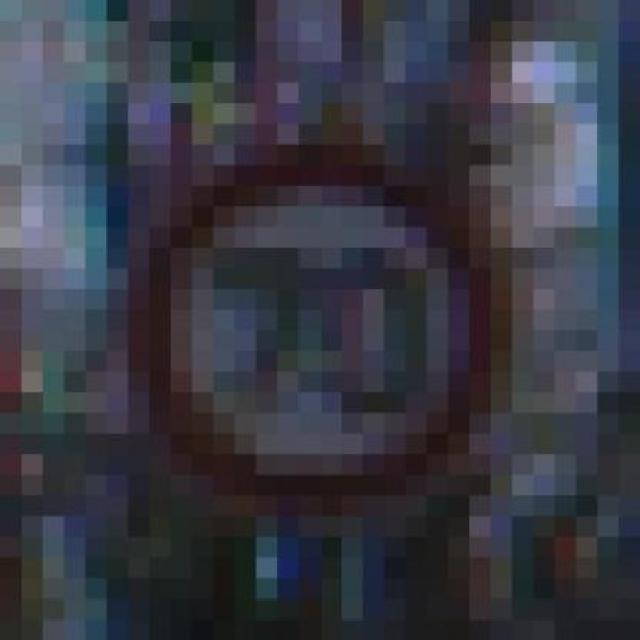forb_speed_over_70: (145, 153, 499, 505)
